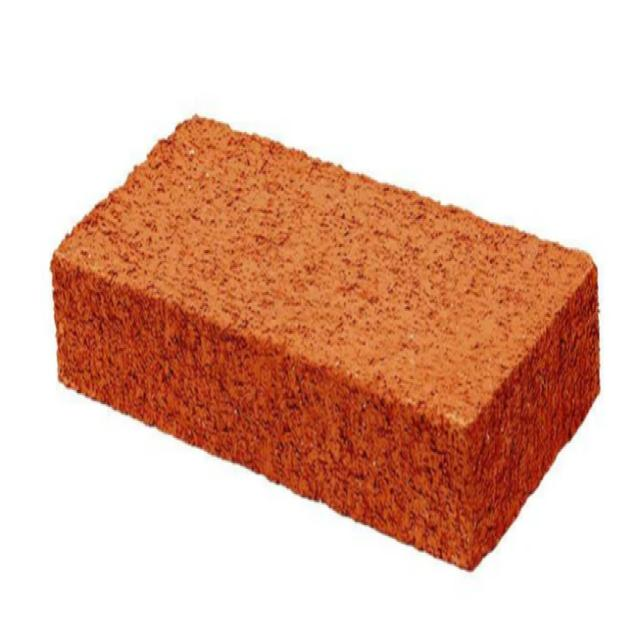bricks: (50, 111, 604, 576)
